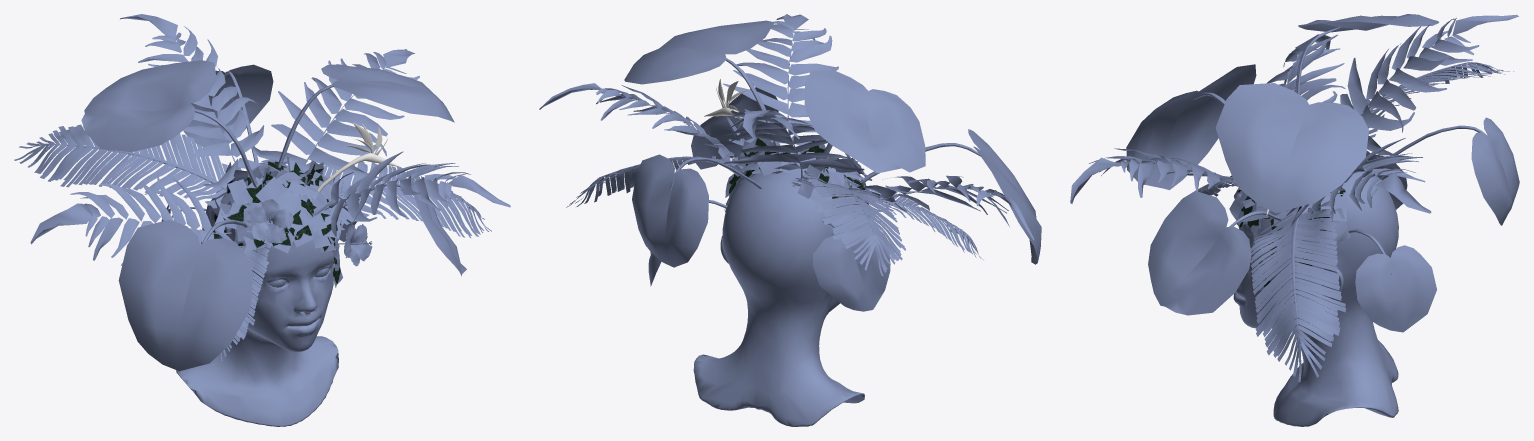
File: website_avatar_faceplant_v4Draco.gltf
3 renders of one model, left to right at view 1: azimuth 30°, elevation 25°; view 2: azimuth 150°, elevation 25°; view 3: azimuth 270°, elevation 25°, orthographic. The views are drawn at different scales.
Visible parts, largest first — view 1: BASEFACE, Monstera1_2, Monstera6_2, PALM_0_2, ivy10, Baby_Fern_Mesh_4, Baby_Fern_Mesh_2, Baby_Fern_Mesh, Baby_Fern_Mesh_3, Monstera7_2, PALM_0_3, Monstera2_2 (+5 smaller); view 2: BASEFACE, Monstera6_2, Monstera2_2, Monstera7_2, Baby_Fern_Mesh_3, PALM_0_2, Monstera5_2, Baby_Fern_Mesh, ivy10, Baby_Fern_Mesh_2, Baby_Fern_Mesh_4, Monstera1_2 (+4 smaller); view 3: BASEFACE, Monstera7_2, PALM_0_3, Monstera3_2, Monstera1_2, Baby_Fern_Mesh, Monstera4_2, Monstera2_2, ivy10, Baby_Fern_Mesh_4, Baby_Fern_Mesh_3, Baby_Fern_Mesh_2 (+2 smaller).
Part boxes in pixels (<box>): BASEFACE: <box>176,189,338,426</box>; Monstera1_2: <box>118,219,252,371</box>; Monstera6_2: <box>81,60,257,188</box>; PALM_0_2: <box>14,124,236,208</box>; ivy10: <box>201,156,347,287</box>; Baby_Fern_Mesh_4: <box>251,49,419,178</box>; Baby_Fern_Mesh_2: <box>30,174,232,265</box>; Baby_Fern_Mesh: <box>120,14,264,187</box>; Baby_Fern_Mesh_3: <box>314,151,510,237</box>; Monstera7_2: <box>277,64,454,167</box>; PALM_0_3: <box>322,161,491,237</box>; Monstera2_2: <box>183,64,273,163</box>; BASEFACE: <box>693,169,864,426</box>; Monstera6_2: <box>804,70,925,173</box>; Monstera2_2: <box>632,154,762,267</box>; Monstera7_2: <box>624,20,782,153</box>; Baby_Fern_Mesh_3: <box>723,14,838,145</box>; PALM_0_2: <box>791,172,905,275</box>; Monstera5_2: <box>813,221,890,311</box>; Baby_Fern_Mesh: <box>724,109,864,179</box>; ivy10: <box>724,138,869,236</box>; Baby_Fern_Mesh_2: <box>848,175,1034,240</box>; Baby_Fern_Mesh_4: <box>539,83,760,173</box>; Monstera1_2: <box>855,129,1041,264</box>; BASEFACE: <box>1233,168,1398,426</box>; Monstera7_2: <box>1215,83,1368,213</box>; PALM_0_3: <box>1250,201,1345,382</box>; Monstera3_2: <box>1148,191,1281,315</box>; Monstera1_2: <box>1126,64,1256,189</box>; Baby_Fern_Mesh: <box>1340,14,1518,155</box>; Monstera4_2: <box>1348,229,1436,332</box>; Monstera2_2: <box>1362,117,1519,225</box>; ivy10: <box>1229,182,1350,295</box>; Baby_Fern_Mesh_4: <box>1286,138,1431,226</box>; Baby_Fern_Mesh_3: <box>1070,148,1239,203</box>; Baby_Fern_Mesh_2: <box>1231,34,1345,186</box>.
Size of the model in its own units: 379 by 278 by 302.
40 materials, 1 textured.
